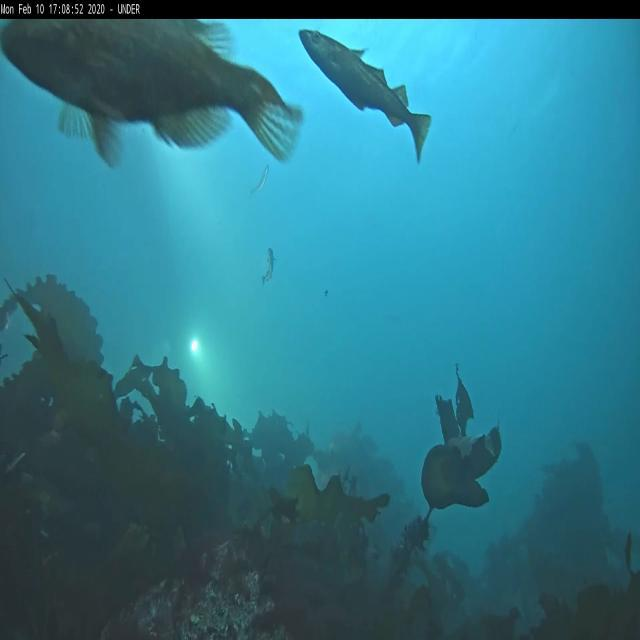fish: (1, 20, 303, 173), (298, 28, 432, 166), (250, 165, 270, 195), (262, 248, 276, 286)
